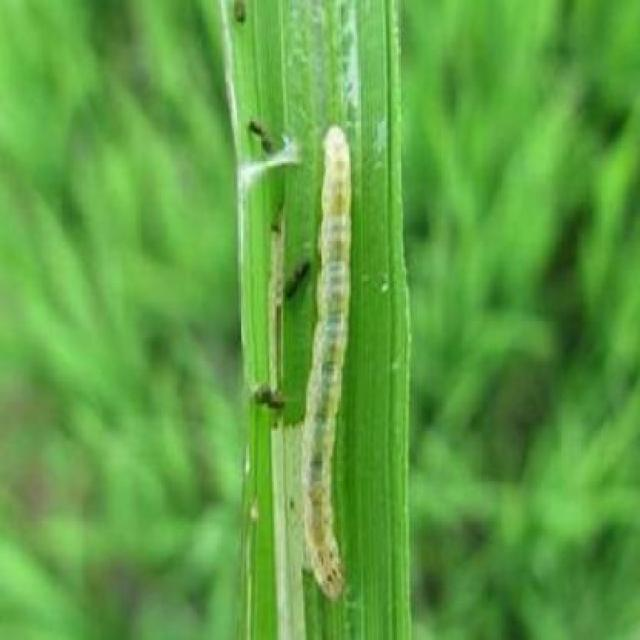leaf-folder: (288, 88, 382, 610)
